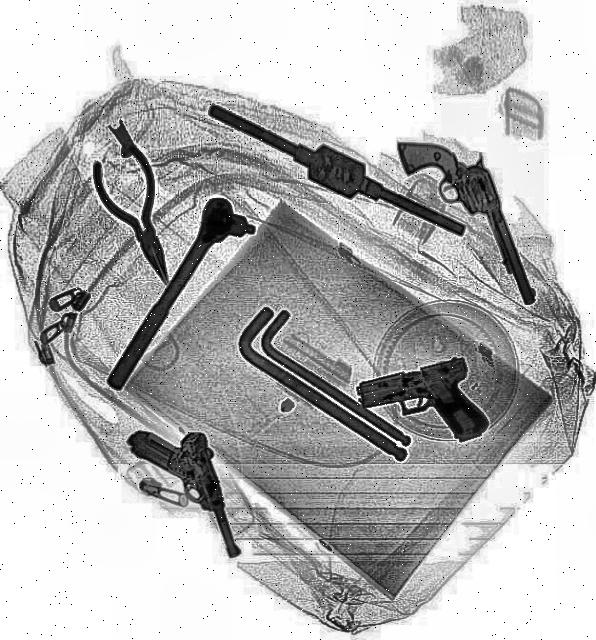Gun: (394, 112, 540, 326), (124, 410, 247, 578), (350, 350, 492, 462)
Pliers: (84, 142, 194, 296)
